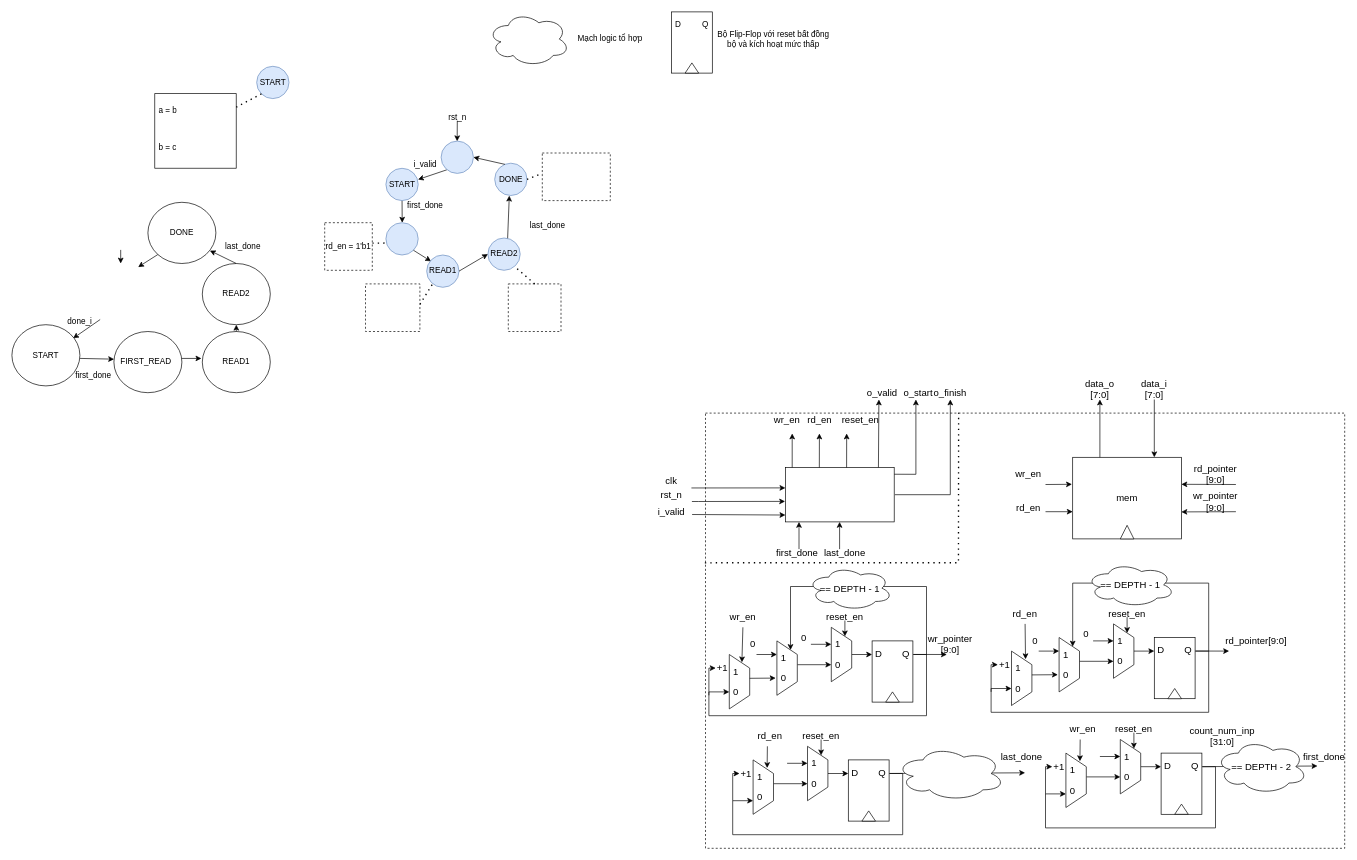
The diagram is 1357 pixels wide and 860 high, and some of its shapes have lost their labels. Here are the shapes that lost their labels. From the top down, the centre of each, then its label:
the point at 456,156: IDLE
the point at 576,176: reset_en = 1'b1 o_finish = 1'b1
the point at 401,238: FR
the point at 392,307: rd_en = 1'b1 o_valid = 1'b1 o_start = 1'b1
the point at 534,307: rd_en = 1'b1 o_valid = 1'b1
the point at 839,494: Controller
the point at 950,773: == count_num_inp
